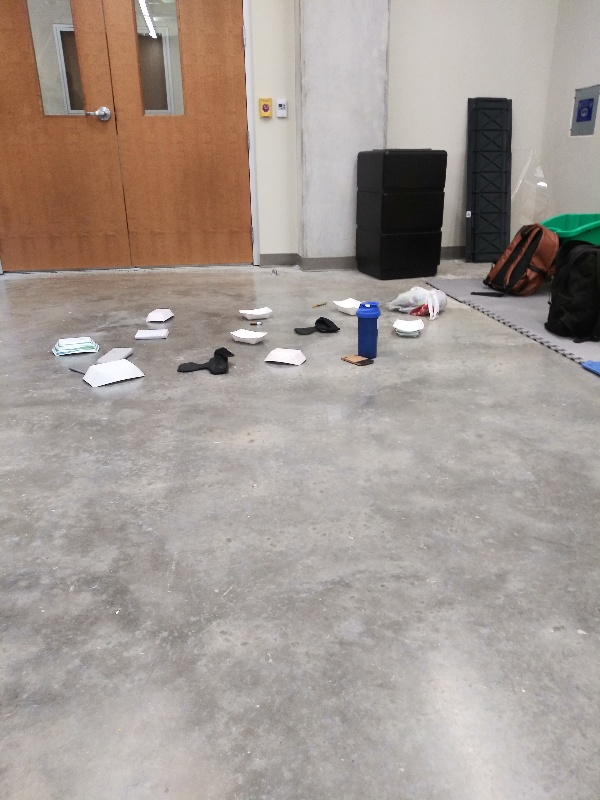plate: (78, 358, 147, 390), (47, 333, 102, 365), (259, 344, 310, 371), (389, 316, 431, 342), (224, 324, 268, 348), (328, 295, 361, 320), (234, 303, 278, 320), (141, 305, 178, 325)
